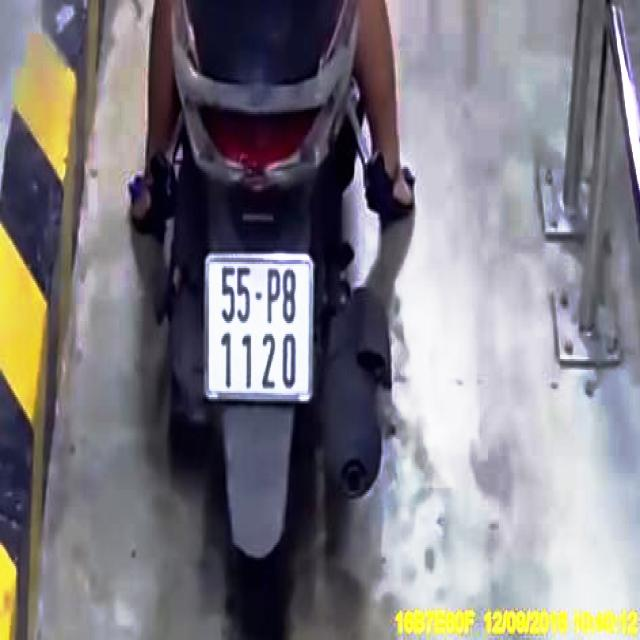license_plate: (207, 253, 314, 398)
